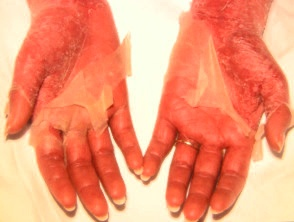SJS-TEN: (140, 0, 293, 222), (1, 0, 147, 222)
